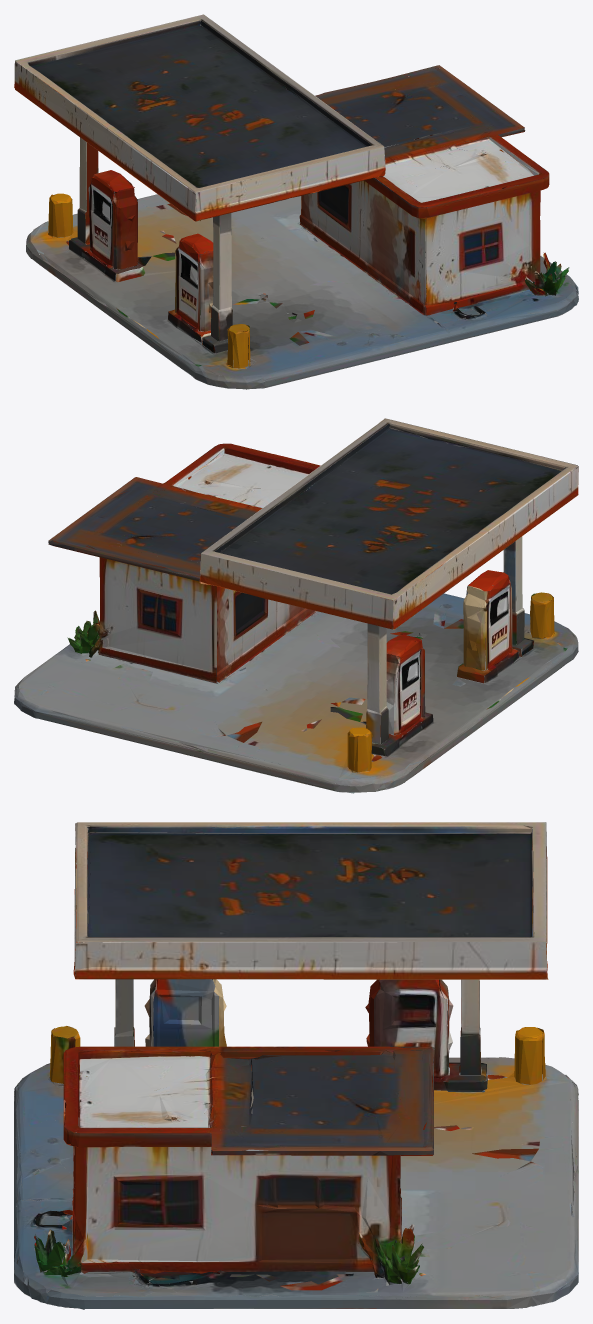
File: gas_station.glb
3 views of the same model, one above another, from view 1: azimuth 30°, elevation 25°; view 2: azimuth 150°, elevation 25°; view 3: azimuth 270°, elevation 25° (orthographic). The views are drawn at different scales.
Parts seen in each view (by area): view 1: obj.obj; view 2: obj.obj; view 3: obj.obj.
Part boxes in pixels (x1,y1,x2,y2): obj.obj: [14, 14, 578, 389]; obj.obj: [14, 418, 578, 793]; obj.obj: [14, 822, 578, 1309].
Size of the model in its own units: 11.57 by 5.5 by 11.38.
Materials: 1 (1 with a texture image).
